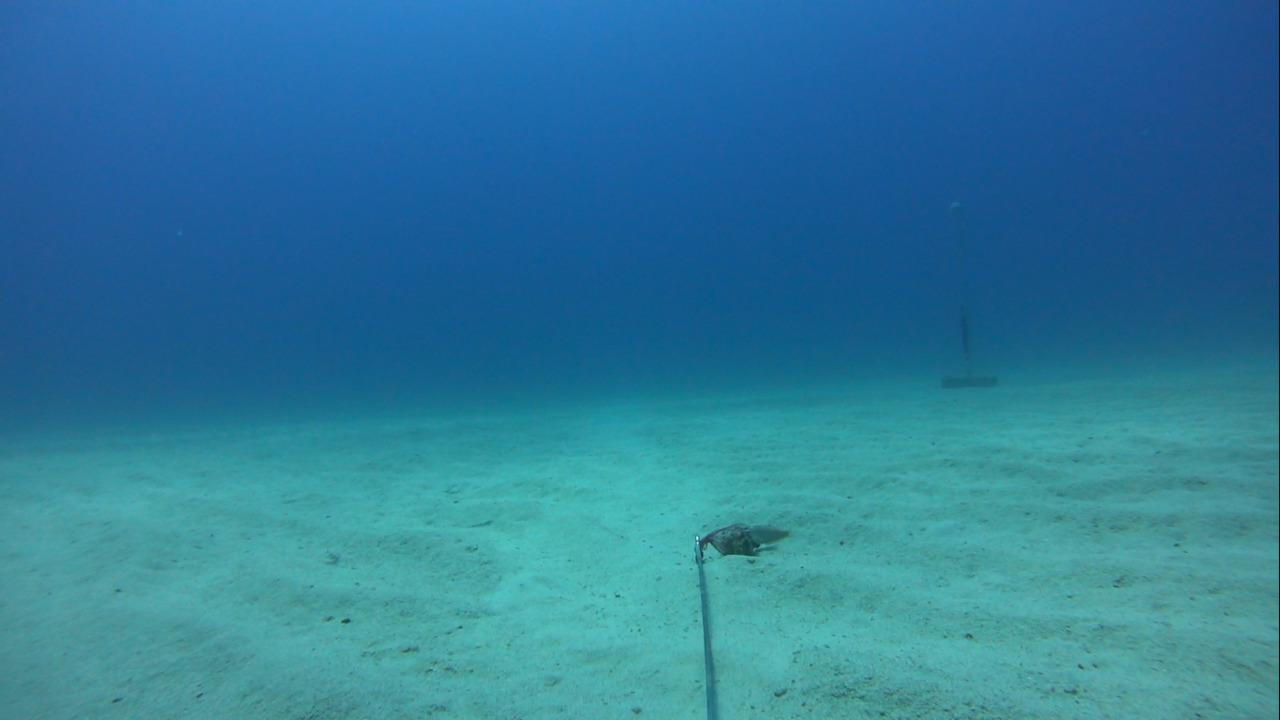raor: (742, 518, 794, 549)
